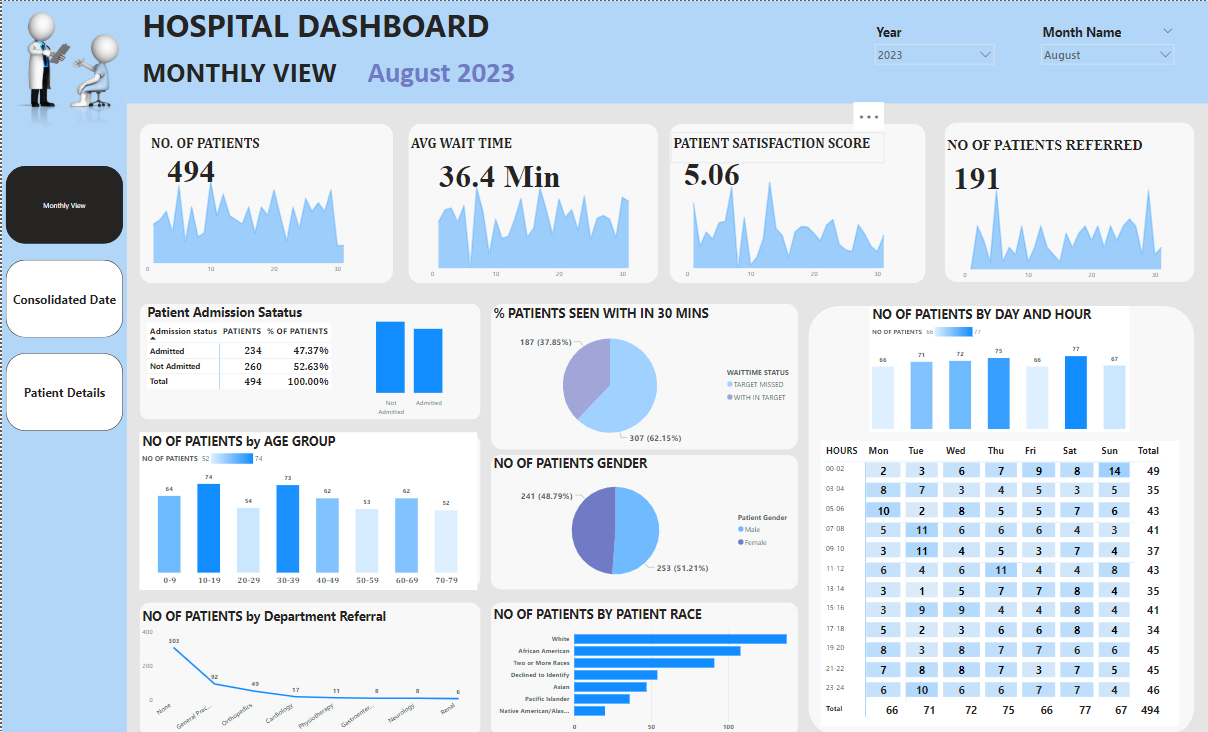

This screenshot's page, from the dashboard's own definition file:
{"tool":"powerbi","page":{"name":"Monthly View","canvas":[2300,1400],"ordinal":0},"visuals":[{"type":"shape","box":[0,0,237.8,1400.5],"z":0},{"type":"shape","box":[237.8,0,2061.5,195],"z":1000},{"type":"textbox","box":[261.6,0,703.8,97.5],"z":2000},{"type":"shape","box":[1792.8,230.6,475.5,304.3],"z":3000},{"type":"textbox","box":[261.6,97.5,451.8,90.4],"z":4000},{"type":"shape","box":[261.6,233,482.7,304.3],"z":5000},{"type":"card","fields":{"Values":["Hospital Data.NO OF PATIENTS"]},"box":[278.2,275.8,164.1,85.6],"z":6000},{"type":"slicer","fields":{"Values":["Date Table.Year"]},"box":[1650.1,38,247.3,123.6],"z":7000},{"type":"slicer","fields":{"Values":["Date Table.Month Name"]},"box":[1966.4,38,273.4,123.6],"z":8000},{"type":"textbox","box":[278.2,249.7,247.3,52.3],"z":9000},{"type":"areaChart","fields":{"Category":["Date Table.Date.Variation.Date Hierarchy.Day"],"Y":["Hospital Data.NO OF PATIENTS"]},"box":[261.6,321,451.8,206.9],"z":10000},{"type":"card","fields":{"Values":["Min(Date Table.Month & Year)"]},"box":[642,73.7,387.6,114.1],"z":11000},{"type":"shape","box":[772.8,233,475.5,304.3],"z":12000},{"type":"shape","box":[1269.7,233,487.4,304.3],"z":13000},{"type":"textbox","box":[772.8,249.7,273.4,71.3],"z":14000},{"type":"textbox","box":[1272.1,249.7,406.6,59.4],"z":15000},{"type":"textbox","box":[1792.8,254.4,418.5,59.4],"z":16000},{"type":"card","fields":{"Values":["Hospital Data.SATISFACTION SCORE"]},"box":[1248.3,280.6,204.5,85.6],"z":17000},{"type":"card","fields":{"Values":["Hospital Data.AVG WAIT TIME"]},"box":[801.3,285.3,292.5,85.6],"z":18000},{"type":"areaChart","fields":{"Category":["Date Table.Date.Variation.Date Hierarchy.Day"],"Y":["Hospital Data.NO OF PATIENTS REFERED"]},"box":[1816.6,332.9,451.8,206.9],"z":19000},{"type":"areaChart","fields":{"Category":["Date Table.Date.Variation.Date Hierarchy.Day"],"Y":["Avg(Hospital Data.Patient Waittime)"]},"box":[803.7,330.5,451.8,206.9],"z":20000},{"type":"card","fields":{"Values":["Hospital Data.NO OF PATIENTS REFERED"]},"box":[1757.1,287.7,197.4,85.6],"z":21000},{"type":"areaChart","fields":{"Category":["Date Table.Date.Variation.Date Hierarchy.Day"],"Y":["Hospital Data.SATISFACTION SCORE"]},"box":[1288.7,330.5,451.8,206.9],"z":22000},{"type":"shape","box":[261.6,575.4,649.1,221.1],"z":23000},{"type":"pivotTable","title":"Patient Admission Satatus","fields":{"Rows":["Hospital Data.Admission status"],"Values":["Hospital Data.NO OF PATIENTS1","Hospital Data.NO OF PATIENTS"]},"box":[271.1,575.4,632.5,221.1],"z":24000},{"type":"shape","box":[261.6,820.3,649.1,299.6],"z":25000},{"type":"columnChart","fields":{"Category":["Hospital Data.Admission status"],"Y":["Hospital Data.NO OF PATIENTS"]},"box":[642,575.4,268.7,221.1],"z":26000},{"type":"shape","box":[929.7,575.4,584.9,278.2],"z":27000},{"type":"clusteredColumnChart","fields":{"Category":["Hospital Data.AGE GROUP"],"Y":["Hospital Data.NO OF PATIENTS"]},"box":[262,820,642,300],"z":28000},{"type":"shape","box":[1533.6,580.2,734.7,820.3],"z":29000},{"type":"shape","box":[261.6,1143.7,649.1,256.8],"z":30000},{"type":"pivotTable","fields":{"Rows":["Hospital Data.WAITTIME INTERVAL"],"Columns":["Date Table.Day Name"],"Values":["Hospital Data.NO OF PATIENTS"]},"box":[1557.4,837,682.4,542.1],"z":31000},{"type":"lineChart","fields":{"Category":["Hospital Data.Department Referral"],"Y":["Hospital Data.NO OF PATIENTS"]},"box":[262,1154,642,246],"z":32000},{"type":"shape","box":[929.7,1143.7,584.9,256.8],"z":33000},{"type":"pieChart","title":"% PATIENTS SEEN WITH IN 30 MINS","fields":{"Category":["Hospital Data.WAITTIME STATUS"],"Y":["Hospital Data.NO OF PATIENTS"]},"box":[929.7,577.8,584.9,275.8],"z":34000},{"type":"shape","box":[929.7,863.1,584.9,256.8],"z":35000},{"type":"pieChart","title":"NO OF PATIENTS GENDER","fields":{"Y":["Hospital Data.NO OF PATIENTS"],"Category":["Hospital Data.Patient Gender"]},"box":[929.7,863.1,584.9,256.8],"z":36000},{"type":"clusteredBarChart","title":"NO OF PATIENTS BY PATIENT RACE","fields":{"Category":["Hospital Data.Patient Race"],"Y":["Hospital Data.NO OF PATIENTS"]},"box":[929.7,1150.8,584.9,247.3],"z":37000},{"type":"clusteredColumnChart","title":"NO OF PATIENTS BY DAY AND HOUR ","fields":{"Category":["Date Table.Day Name"],"Y":["Hospital Data.NO OF PATIENTS"]},"box":[1650.1,580.2,494.6,240.2],"z":38000},{"type":"image","box":[0,16.6,237.8,230.6],"z":39000},{"type":"pageNavigator","box":[7.1,313.9,223.5,506.5],"z":39001}]}

Visuals, with their boxes in screenshot pixels (x1, y1, x2, y2), scaled from the page's 2300x1400 canvas onto the 1208x732 screenshot:
shape: 0,0,125,731
shape: 125,0,1207,102
textbox: 137,0,507,51
shape: 942,121,1191,280
textbox: 137,51,375,98
shape: 137,122,391,281
card - Hospital Data.NO OF PATIENTS: 146,144,232,189
slicer - Date Table.Year: 867,20,997,84
slicer - Date Table.Month Name: 1033,20,1176,84
textbox: 146,131,276,158
areaChart - Date Table.Date.Variation.Date Hierarchy.Day x Hospital Data.NO OF PATIENTS: 137,168,375,276
card - Min(Date Table.Month & Year): 337,39,541,98
shape: 406,122,656,281
shape: 667,122,923,281
textbox: 406,131,549,168
textbox: 668,131,882,162
textbox: 942,133,1161,164
card - Hospital Data.SATISFACTION SCORE: 656,147,763,191
card - Hospital Data.AVG WAIT TIME: 421,149,574,194
areaChart - Date Table.Date.Variation.Date Hierarchy.Day x Hospital Data.NO OF PATIENTS REFERED: 954,174,1191,282
areaChart - Date Table.Date.Variation.Date Hierarchy.Day x Avg(Hospital Data.Patient Waittime): 422,173,659,281
card - Hospital Data.NO OF PATIENTS REFERED: 923,150,1027,195
areaChart - Date Table.Date.Variation.Date Hierarchy.Day x Hospital Data.SATISFACTION SCORE: 677,173,914,281
shape: 137,301,478,416
"Patient Admission Satatus" pivotTable: 142,301,475,416
shape: 137,429,478,586
columnChart - Hospital Data.Admission status x Hospital Data.NO OF PATIENTS: 337,301,478,416
shape: 488,301,795,446
clusteredColumnChart - Hospital Data.AGE GROUP x Hospital Data.NO OF PATIENTS: 138,429,475,586
shape: 805,303,1191,731
shape: 137,598,478,731
pivotTable - Hospital Data.WAITTIME INTERVAL x Date Table.Day Name: 818,438,1176,721
lineChart - Hospital Data.Department Referral x Hospital Data.NO OF PATIENTS: 138,603,475,731
shape: 488,598,795,731
"% PATIENTS SEEN WITH IN 30 MINS" pieChart: 488,302,795,446
shape: 488,451,795,586
"NO OF PATIENTS GENDER" pieChart: 488,451,795,586
"NO OF PATIENTS BY PATIENT RACE" clusteredBarChart: 488,602,795,731
"NO OF PATIENTS BY DAY AND HOUR " clusteredColumnChart: 867,303,1126,429
image: 0,9,125,129
pageNavigator: 4,164,121,429
